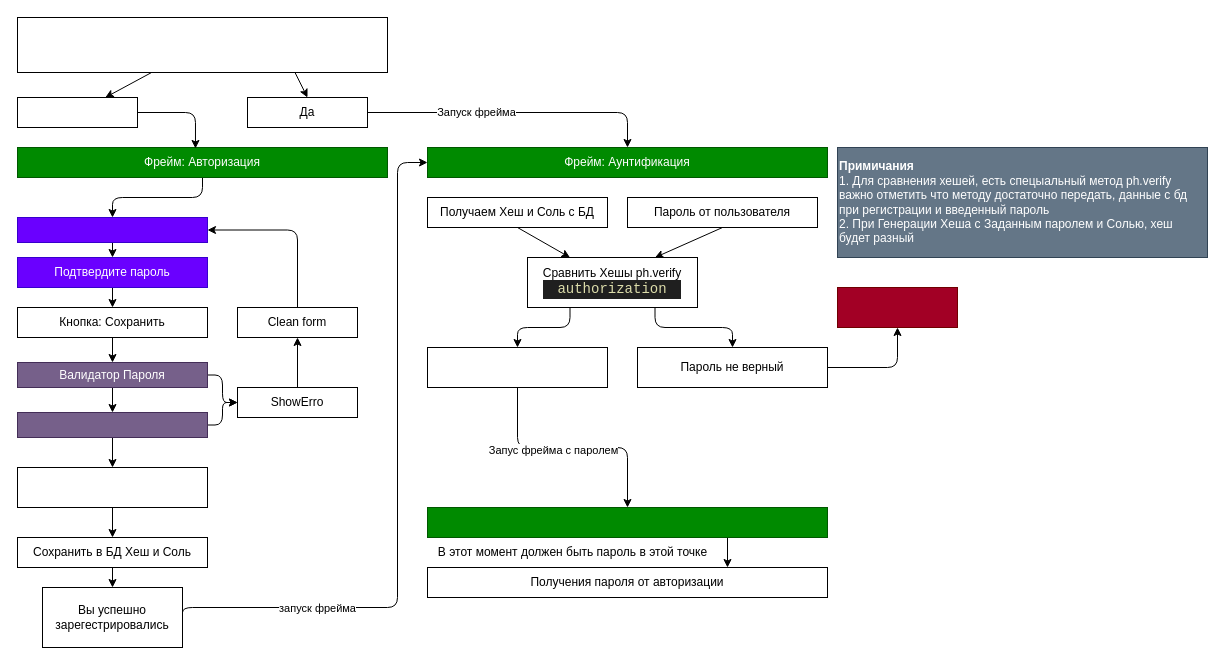
The diagram is 1225 pixels wide and 665 high, and some of its shapes have lost their labels. Here are the shapes that lost their labels. From the top down, the box of each, then its label:
(16, 16, 388, 72): Есть ли в таблице Настройки запись авторизации ?
(16, 96, 138, 128): Нет
(16, 216, 208, 242): Введите пароль
(836, 286, 958, 328): Кол попыток
(426, 346, 608, 388): Пароль верный
(16, 412, 208, 438): Сверка паролей
(16, 466, 208, 508): Хеш: Argon2(Pass + Sole) registration
(426, 506, 828, 538): Фрейм: запуска прилодения
